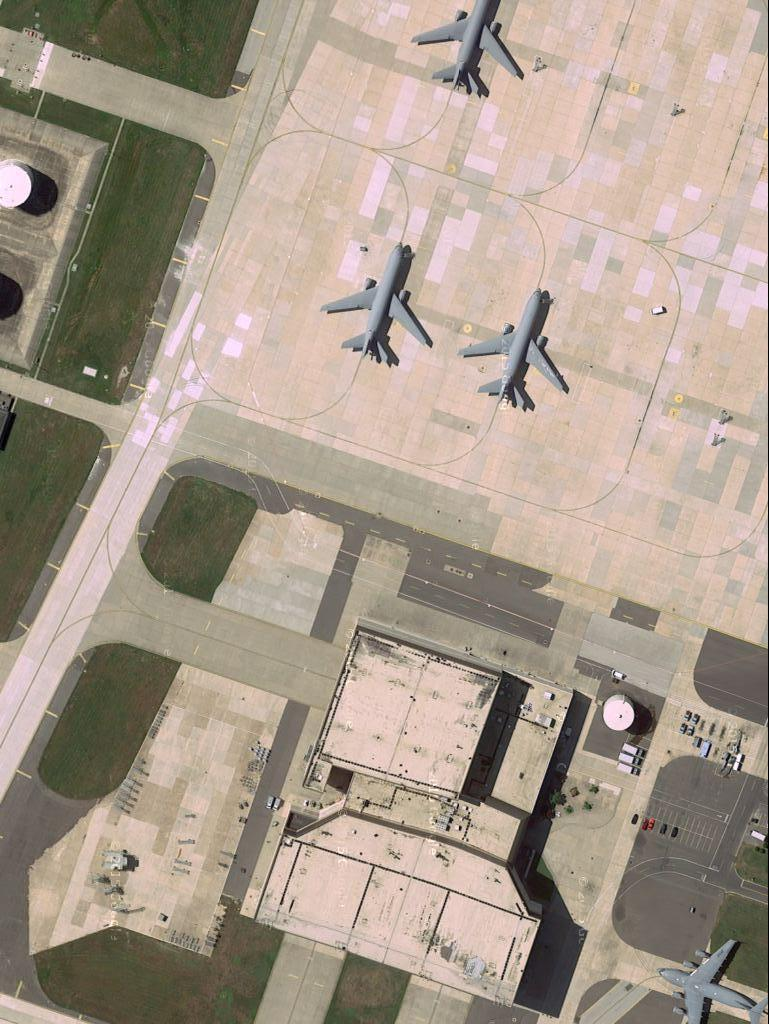C-17: (655, 936, 766, 1020)
KC-10: (318, 244, 438, 370), (460, 284, 571, 415), (413, 4, 528, 101)
